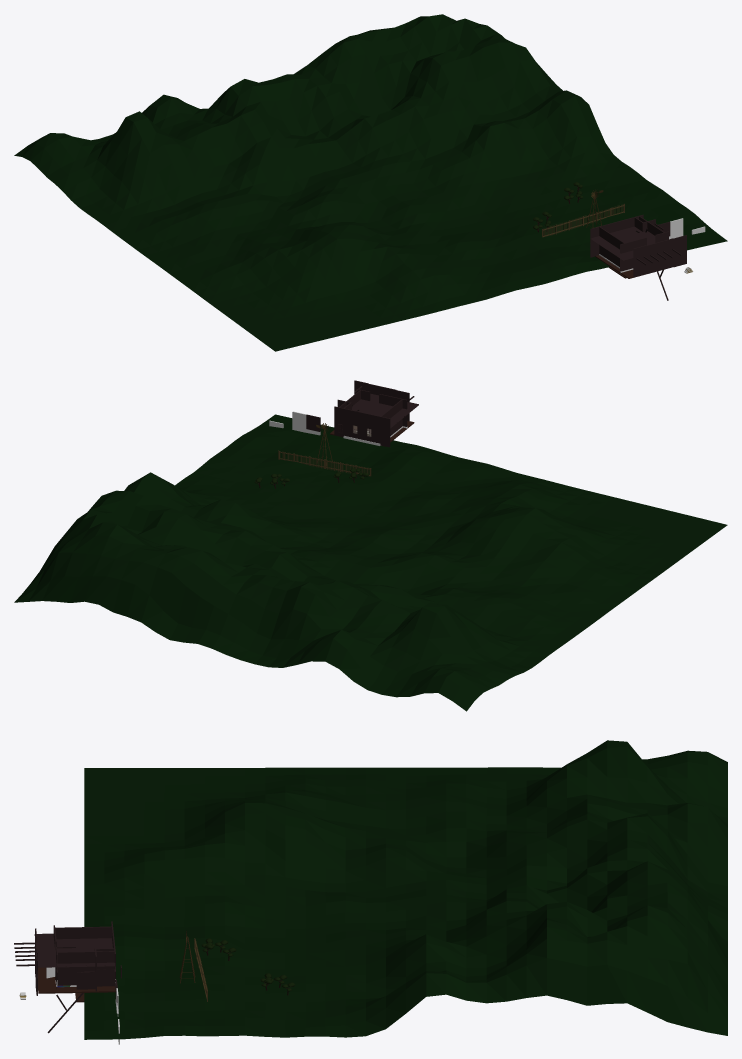
3 renders of one model, top to bottom at view 1: azimuth 30°, elevation 25°; view 2: azimuth 150°, elevation 25°; view 3: azimuth 270°, elevation 25°, orthographic. The views are drawn at different scales.
Parts seen in each view (by area): view 1: Terrain_x0y0, Terrain_x1y0, Terrain_x1y1, Terrain_x0y1; view 2: Terrain_x0y0, Terrain_x1y0, Terrain_x1y1, Terrain_x0y1; view 3: Terrain_x0y0, Terrain_x0y1, Terrain_x1y1, Terrain_x1y0.
Part boxes in pixels (bbox=[...]): Terrain_x0y0: bbox=[273, 14, 596, 191]; Terrain_x1y0: bbox=[14, 79, 370, 255]; Terrain_x1y1: bbox=[145, 192, 501, 351]; Terrain_x0y1: bbox=[371, 115, 727, 294]; Terrain_x0y0: bbox=[14, 472, 370, 659]; Terrain_x1y0: bbox=[240, 557, 596, 711]; Terrain_x1y1: bbox=[371, 468, 727, 620]; Terrain_x0y1: bbox=[173, 414, 501, 556]; Terrain_x0y0: bbox=[406, 839, 727, 1035]; Terrain_x0y1: bbox=[84, 893, 405, 1039]; Terrain_x1y1: bbox=[84, 767, 405, 901]; Terrain_x1y0: bbox=[406, 740, 727, 902].
Bounding box in the file's own units: 100 × 22.28 × 111.
